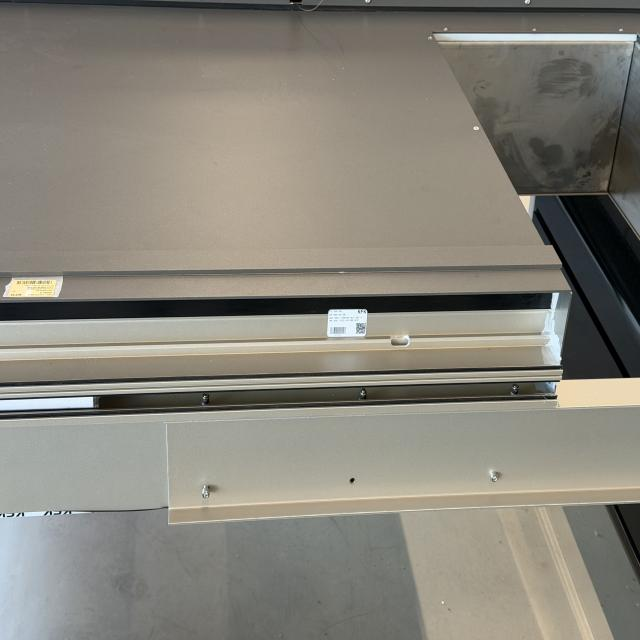vijak_labav: (186, 474, 230, 509)
vijak_nedostaje: (340, 464, 367, 504)
